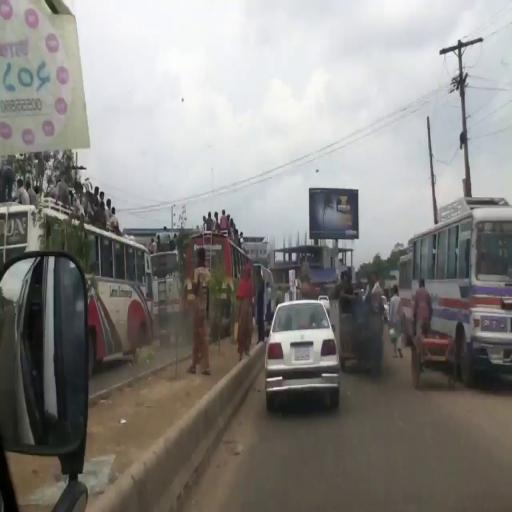bus: (2, 191, 161, 378), (150, 244, 183, 340)
car: (265, 301, 345, 416)
minibus: (407, 206, 512, 389)
